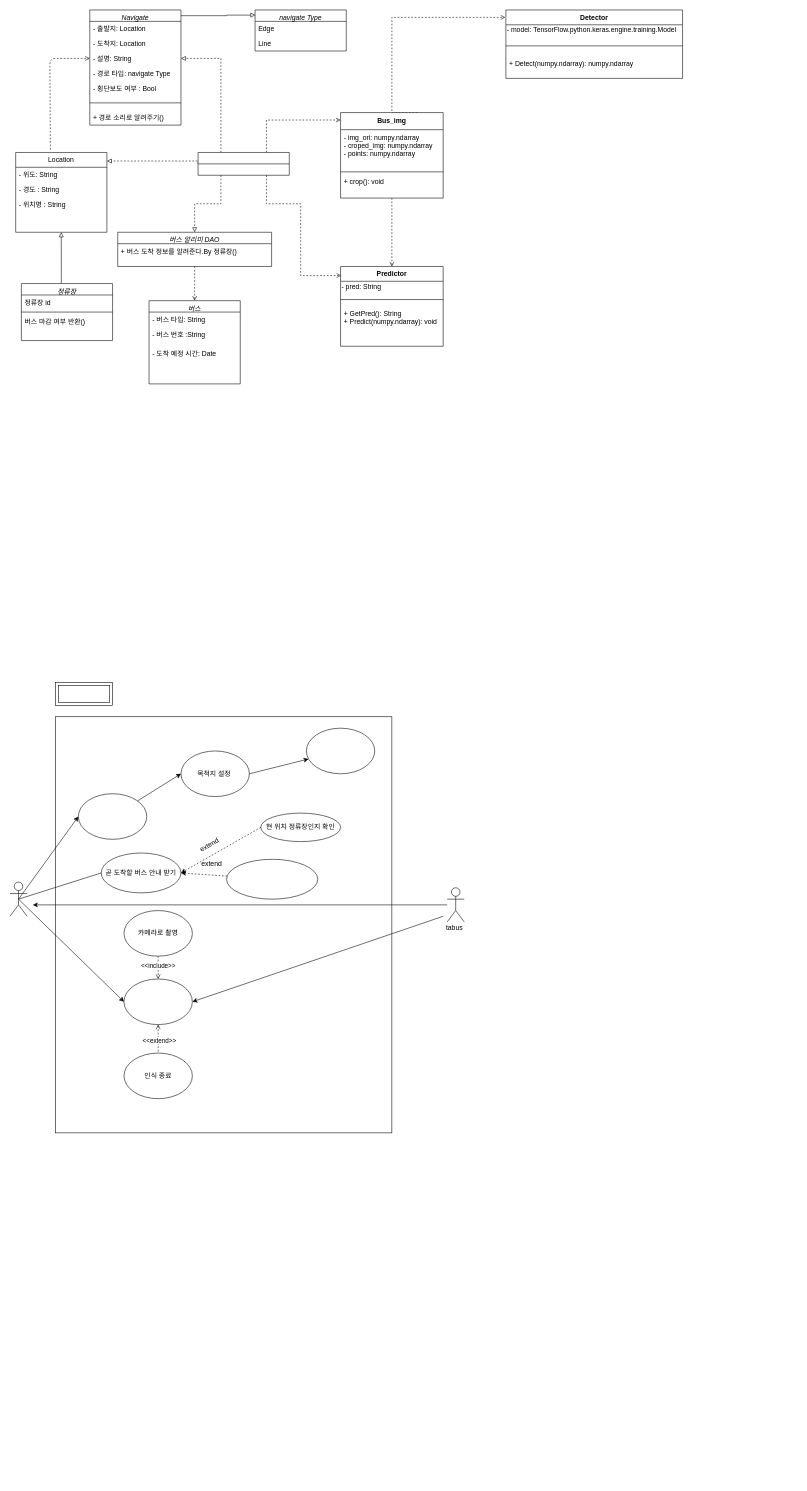
This 807x1491 diagram has some shape labels left out. Each missing label, with the centre of its shape:
"Actor" belongs at (18,899).
"Anonymous User" belongs at (243,163).
"user case" belongs at (84,693).
"경로 검색" belongs at (112,816).
"경로 안내받기" belongs at (340,751).
"버스 번호 인식" belongs at (157,1001).
"정류장 검색" belongs at (272,879).
